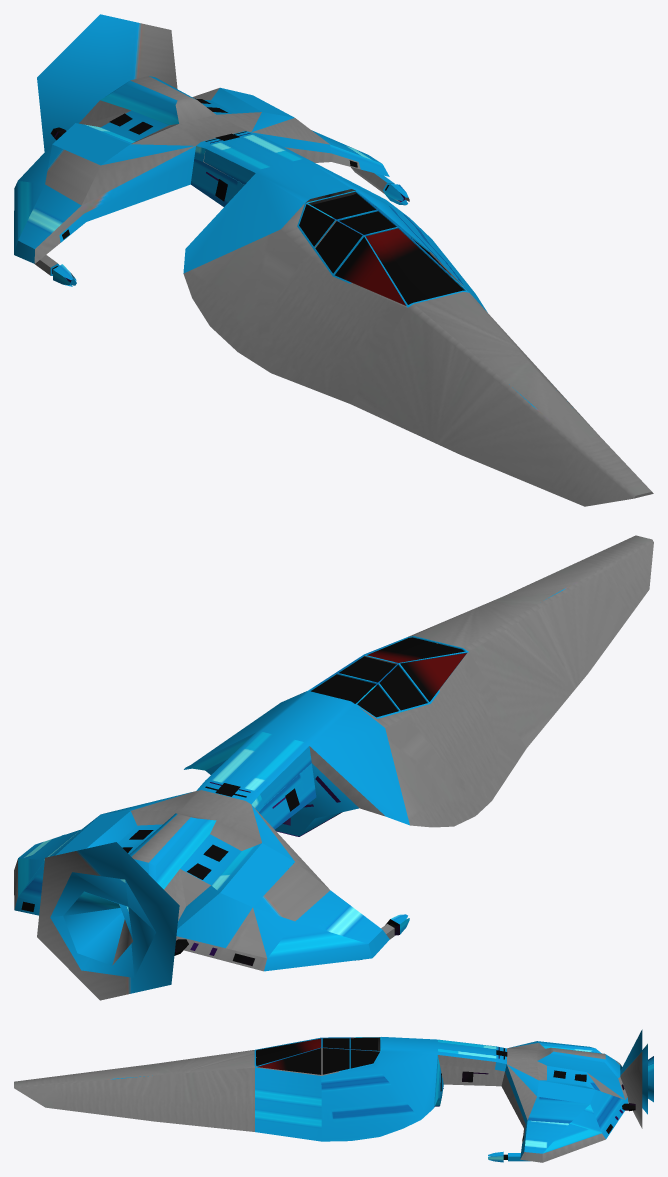
File: AG-SYS.obj
3 renders of one model, top to bottom at view 1: azimuth 30°, elevation 25°; view 2: azimuth 150°, elevation 25°; view 3: azimuth 270°, elevation 25°, orthographic. The views are drawn at different scales.
Visible parts, largest first — view 1: AG_Systems_1_Glow_0; view 2: AG_Systems_1_Glow_0; view 3: AG_Systems_1_Glow_0.
Part boxes in pixels (x1=…): AG_Systems_1_Glow_0: x1=14, y1=14, x2=653, y2=506; AG_Systems_1_Glow_0: x1=14, y1=535, x2=653, y2=1000; AG_Systems_1_Glow_0: x1=14, y1=1029, x2=653, y2=1162.
Bounding box in the file's own units: 0.0675 × 0.0293 × 0.178.
